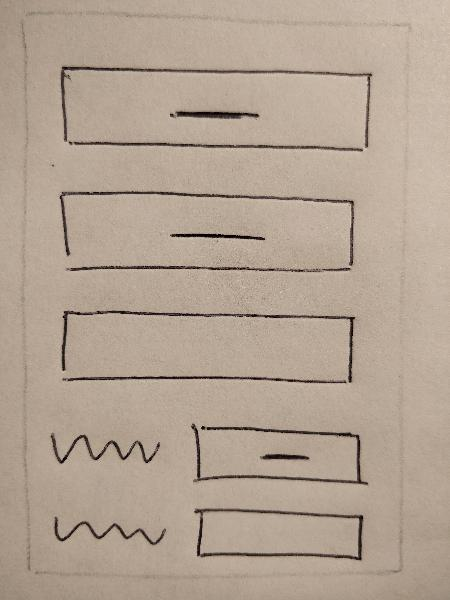button: (54, 58, 372, 166), (49, 178, 367, 286), (185, 417, 369, 494)
text: (40, 413, 165, 472), (46, 502, 171, 561)
text_input: (51, 303, 359, 397), (190, 502, 367, 566)
